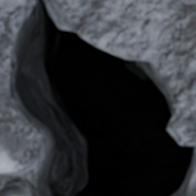broken_brick: (49, 0, 195, 145), (0, 0, 43, 176)
crack: (1, 0, 195, 195)
